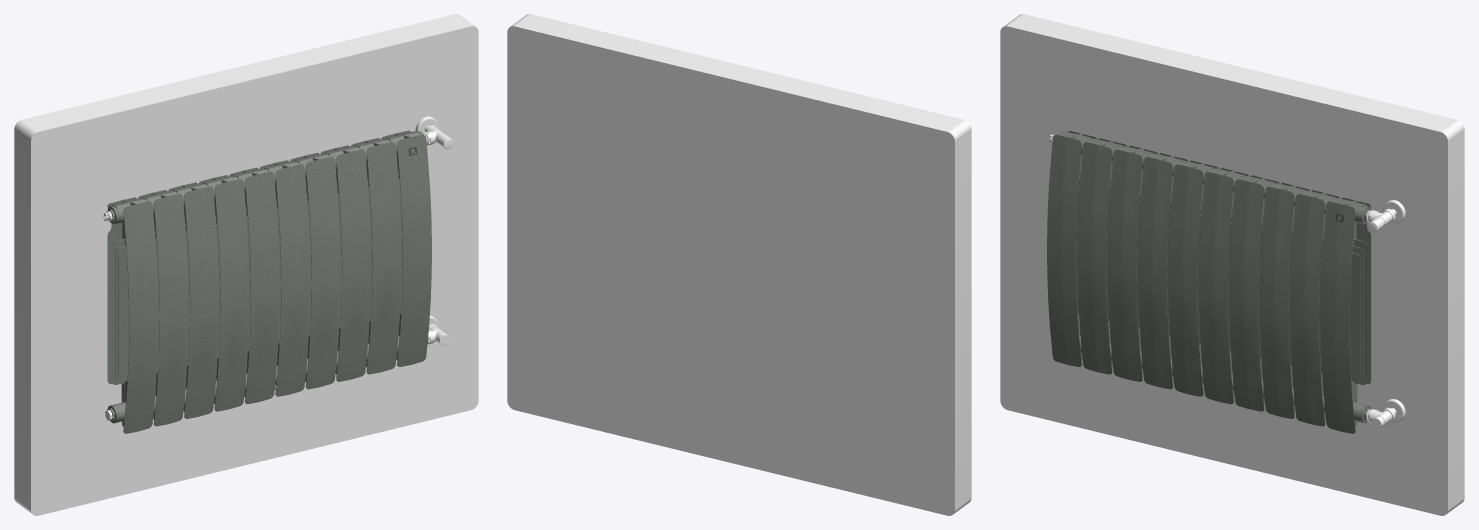
3 views of the same model, side by side, from view 1: azimuth 30°, elevation 25°; view 2: azimuth 150°, elevation 25°; view 3: azimuth 330°, elevation 25° (orthographic).
Parts seen in each view (by area): view 1: sciana_camber, grzejnik_camber_b, grzejnik_camber; view 2: sciana_camber; view 3: sciana_camber, grzejnik_camber_b, grzejnik_camber, Zestaw_maskujacy_podwojny_PO_1.
Boxes of the visible parts, bbox=[...] form: sciana_camber: bbox=[14, 14, 478, 515]; grzejnik_camber_b: bbox=[138, 138, 401, 426]; grzejnik_camber: bbox=[107, 130, 431, 433]; sciana_camber: bbox=[507, 14, 971, 515]; sciana_camber: bbox=[1000, 14, 1464, 515]; grzejnik_camber_b: bbox=[1077, 138, 1340, 426]; grzejnik_camber: bbox=[1047, 130, 1371, 433]; Zestaw_maskujacy_podwojny_PO_1: bbox=[1383, 200, 1405, 422].
Size of the model in its own units: 1.18 by 0.965 by 0.1951.
Materials: 7 (7 with a texture image).
